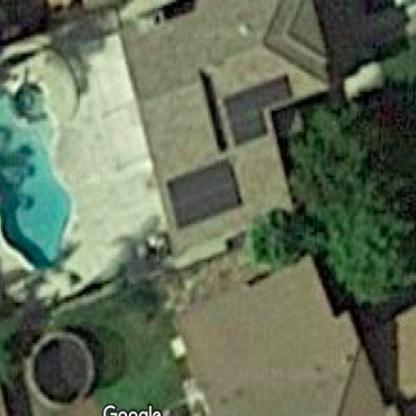solar_panel: (162, 153, 248, 228), (215, 76, 299, 152)
swimming_pool: (1, 58, 110, 282)
